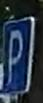Estacionamento autorizado: (1, 16, 40, 99)
